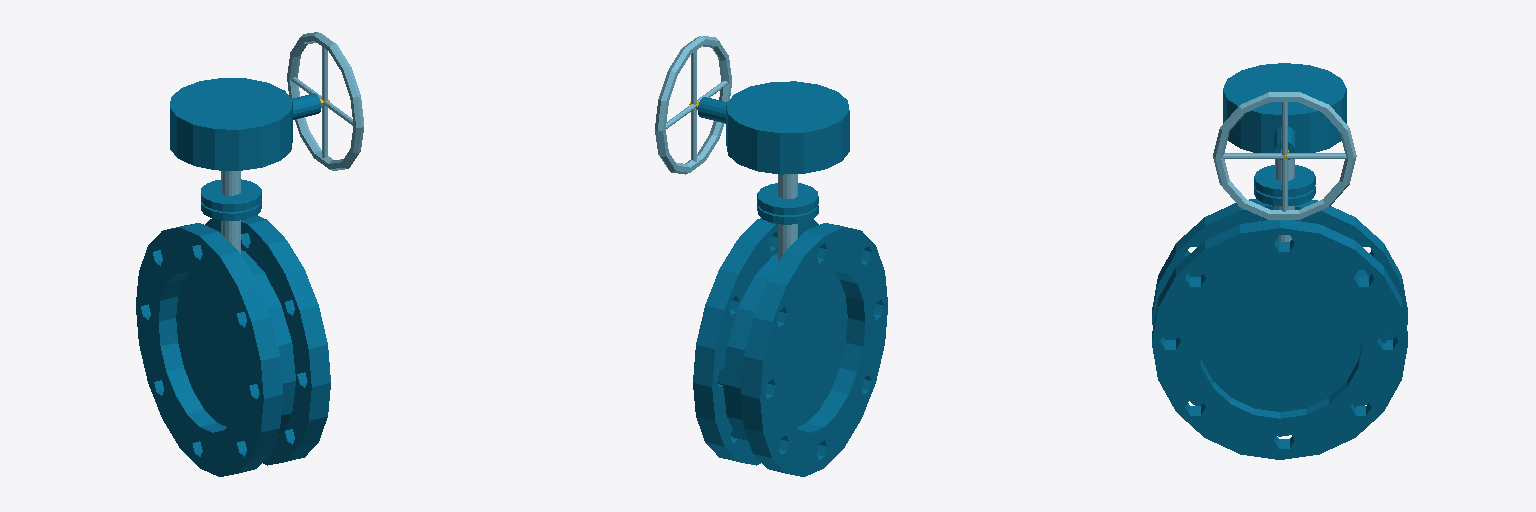
The model's file is butterfly_valve.obj.
3 views of the same model, side by side, from view 1: azimuth 30°, elevation 25°; view 2: azimuth 150°, elevation 25°; view 3: azimuth 270°, elevation 25° (orthographic).
Visible parts, largest first — view 1: __, __.1, __.5, __.3, __.8, __.6, __.2; view 2: __, __.1, __.5, __.3, __.8, __.6, __.2; view 3: __, __.1, __.5, __.8, __.3.
Boxes of the visible parts, x1=… form: __: x1=136, y1=32, x2=363, y2=476; __.1: x1=141, y1=229, x2=307, y2=456; __.5: x1=170, y1=78, x2=292, y2=170; __.3: x1=201, y1=179, x2=261, y2=211; __.8: x1=291, y1=47, x2=352, y2=157; __.6: x1=292, y1=93, x2=321, y2=119; __.2: x1=201, y1=199, x2=261, y2=220; __: x1=655, y1=36, x2=887, y2=476; __.1: x1=717, y1=232, x2=883, y2=459; __.5: x1=726, y1=81, x2=849, y2=174; __.3: x1=757, y1=183, x2=818, y2=214; __.8: x1=666, y1=51, x2=727, y2=161; __.6: x1=698, y1=97, x2=727, y2=123; __.2: x1=757, y1=202, x2=818, y2=224; __: x1=1152, y1=92, x2=1407, y2=459; __.1: x1=1160, y1=239, x2=1397, y2=448; __.5: x1=1223, y1=63, x2=1346, y2=152; __.8: x1=1222, y1=102, x2=1346, y2=211; __.3: x1=1254, y1=165, x2=1315, y2=196.
Size of the model in its own units: 83.21 by 207 by 121.